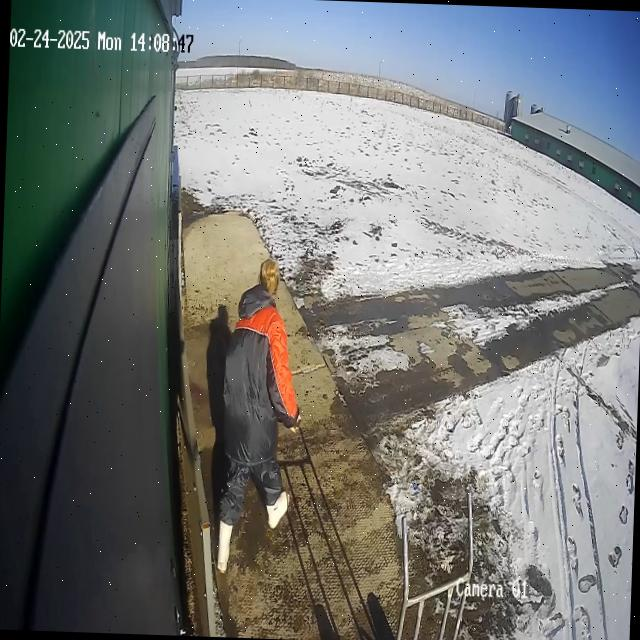Red uniform: (210, 282, 304, 530)
